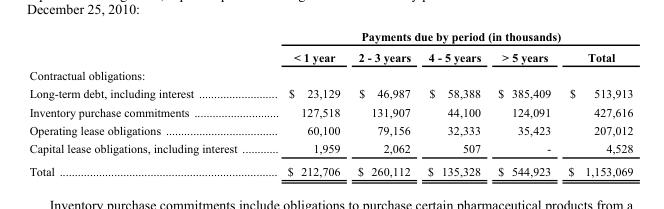table: (28, 29, 632, 177)
table column: (28, 29, 261, 177), (261, 29, 348, 177), (558, 29, 632, 177), (348, 29, 418, 177), (418, 29, 488, 177), (488, 29, 558, 177)
table column header: (28, 29, 632, 65)
table projected row header: (28, 65, 632, 84)
table row: (28, 139, 632, 159), (28, 46, 632, 65), (28, 65, 632, 84), (28, 120, 632, 139), (28, 84, 632, 102), (28, 102, 632, 120), (28, 159, 632, 177), (28, 29, 632, 46)
table spanning cell: (261, 29, 632, 46)
